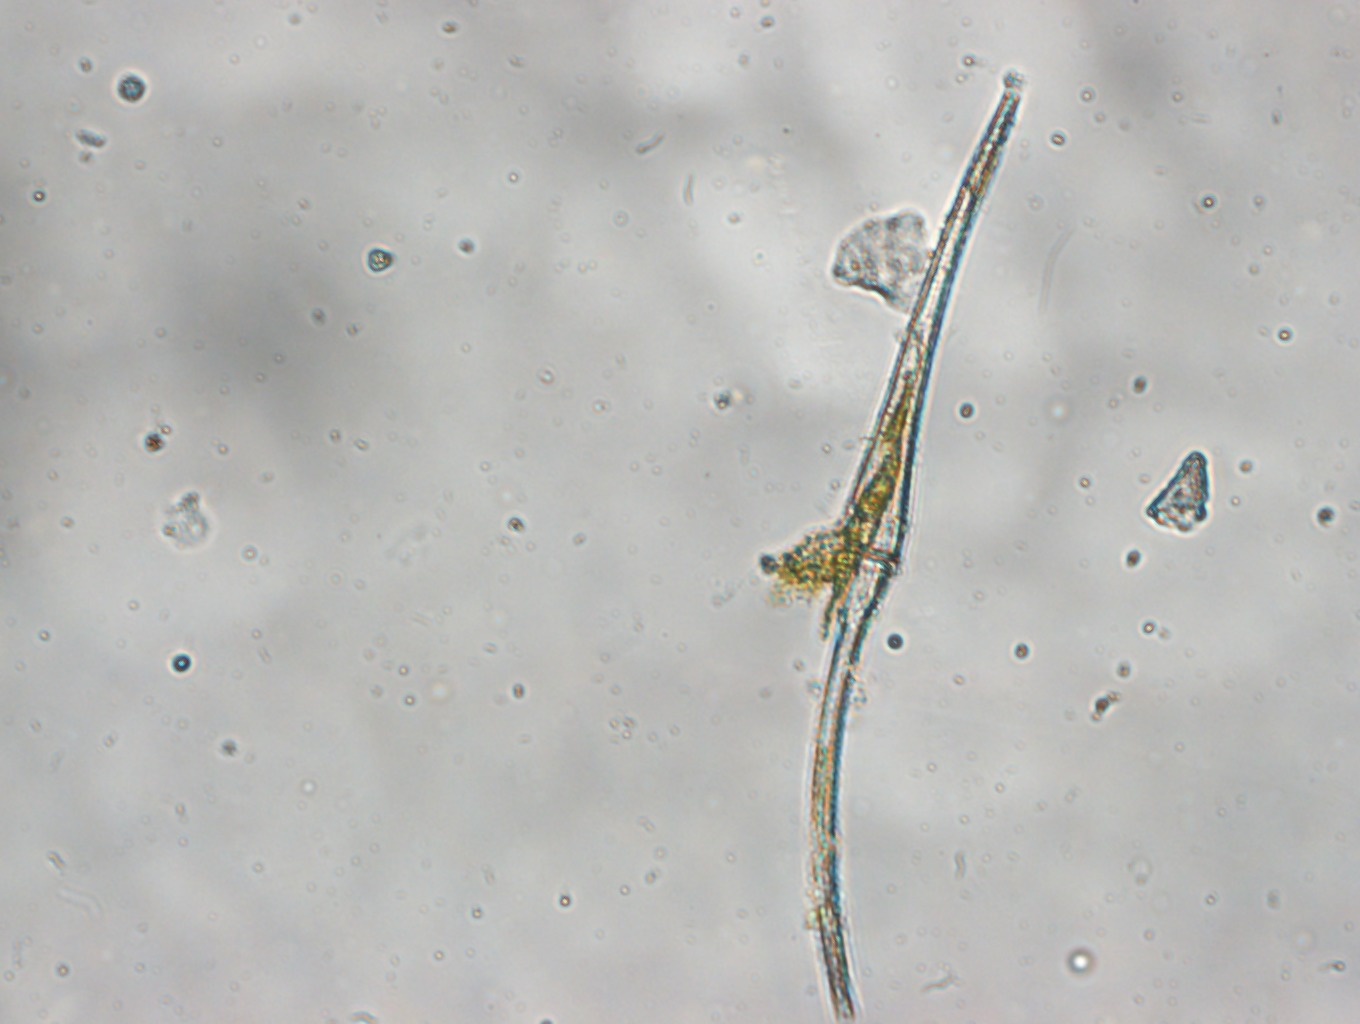ceratium fusus: (769, 69, 1028, 1024)
